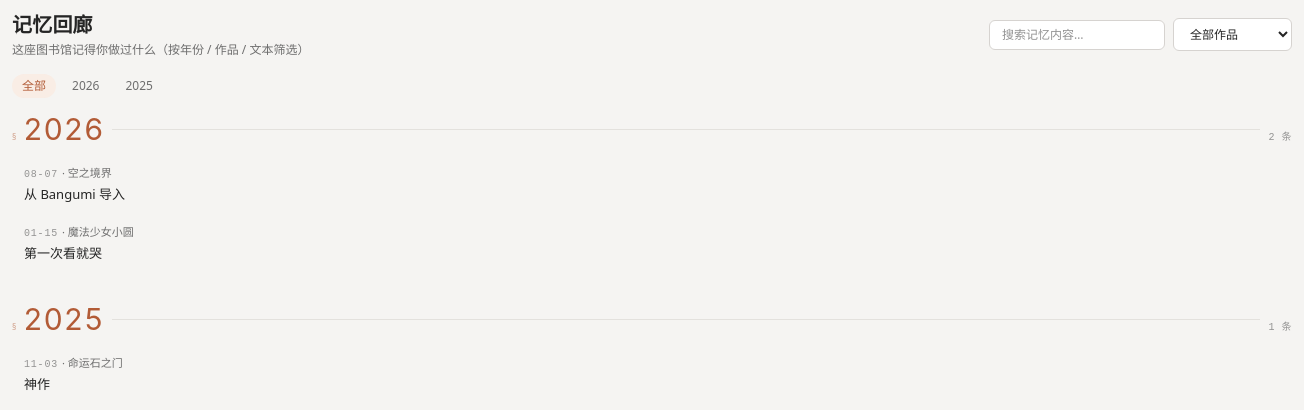
记忆回廊页面 › 作品筛选：选择某作品 → 只剩该作品条目
The width and height of the screenshot is (1304, 410).
Expected: the text "神作" is shown, [24,375,50,393]
Select "魔法少女小圆" in the dropdown at (1232, 35), box [1173,18,1292,51]
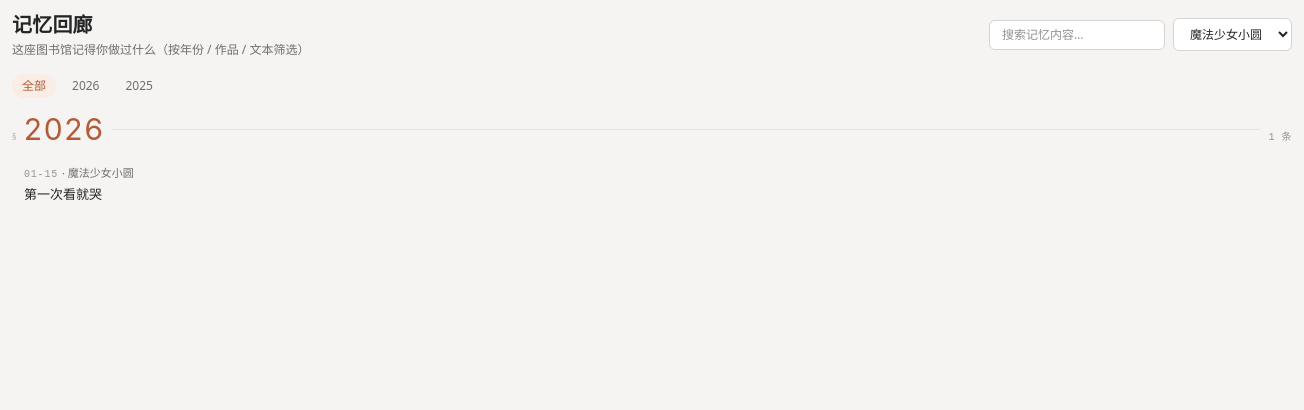
Expected: the text "第一次看就哭" is shown, [24,184,102,202]
Expected: the button "神作" is gone
Expected: the button "从 Bangumi 导入" is gone
